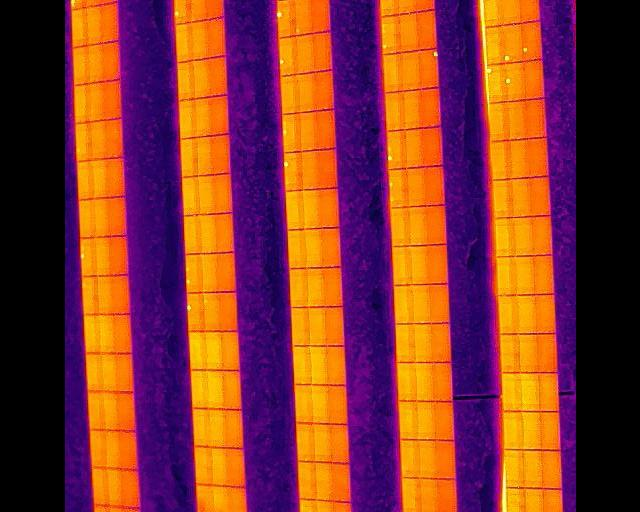Cell: (520, 22, 540, 62), (502, 24, 522, 63), (277, 37, 297, 76), (417, 49, 437, 87), (504, 63, 524, 101), (282, 153, 301, 191), (486, 63, 504, 102), (276, 0, 294, 38), (202, 292, 219, 331), (74, 122, 90, 160), (187, 294, 203, 331), (293, 0, 310, 34), (483, 0, 502, 27), (194, 484, 212, 512), (188, 0, 206, 21), (174, 0, 189, 25)
Cell-Multi: (281, 113, 300, 153), (388, 169, 406, 208), (380, 16, 397, 55), (185, 254, 201, 293), (80, 236, 96, 275), (387, 131, 403, 170), (69, 0, 85, 9), (94, 504, 110, 512)
No-Anomaly: (284, 188, 305, 231), (427, 283, 448, 323), (300, 190, 320, 231), (396, 13, 417, 52), (390, 246, 411, 285), (541, 450, 562, 489), (175, 98, 195, 138), (522, 449, 542, 488), (506, 101, 526, 140), (433, 401, 453, 440), (426, 245, 446, 284), (399, 52, 419, 91), (395, 362, 415, 401), (534, 294, 554, 333), (414, 11, 435, 48), (509, 178, 528, 218), (318, 149, 337, 189), (429, 322, 448, 362), (419, 88, 438, 128), (399, 439, 418, 479), (540, 411, 560, 449), (280, 75, 299, 115), (532, 216, 551, 256), (503, 409, 522, 449), (488, 102, 508, 140), (315, 111, 334, 150), (315, 72, 334, 111), (311, 423, 330, 462), (519, 372, 538, 411), (431, 362, 450, 401), (425, 206, 444, 245), (420, 127, 439, 166), (409, 284, 428, 323), (397, 401, 416, 440), (400, 91, 419, 130), (325, 346, 344, 385), (322, 267, 341, 306), (529, 177, 548, 216), (290, 307, 309, 346), (539, 372, 558, 411), (294, 34, 313, 73), (293, 384, 312, 423), (533, 255, 552, 294), (536, 334, 555, 373), (499, 333, 518, 372), (501, 372, 520, 411), (483, 26, 502, 65), (490, 140, 509, 179), (523, 62, 543, 99), (191, 96, 209, 137), (512, 217, 531, 255), (413, 363, 432, 401), (297, 461, 316, 499), (312, 32, 330, 72), (181, 175, 199, 215), (528, 137, 546, 177), (435, 439, 453, 479), (408, 245, 426, 285), (412, 323, 430, 363), (295, 421, 313, 461), (293, 345, 311, 385), (219, 330, 237, 370), (212, 173, 230, 213), (210, 136, 229, 173), (526, 99, 544, 138), (518, 333, 536, 372), (75, 160, 93, 199), (514, 255, 532, 294), (516, 294, 534, 333), (407, 207, 425, 246), (423, 166, 441, 205), (416, 401, 434, 440), (389, 207, 407, 246), (392, 285, 410, 324), (381, 53, 399, 92), (330, 424, 348, 463), (331, 463, 349, 502), (320, 228, 338, 267), (324, 307, 342, 346), (188, 331, 206, 370), (298, 73, 316, 112), (224, 448, 242, 487), (206, 57, 224, 96), (203, 331, 221, 370), (206, 18, 224, 57), (191, 408, 209, 447), (192, 446, 210, 485), (498, 294, 516, 333), (113, 313, 130, 354), (309, 0, 330, 33), (522, 411, 540, 449), (118, 431, 136, 469), (88, 429, 106, 467), (406, 169, 424, 207), (287, 231, 305, 269), (288, 269, 306, 307), (504, 450, 522, 488), (497, 256, 515, 294), (175, 61, 192, 101), (418, 439, 435, 479), (309, 345, 326, 385), (301, 151, 318, 191), (205, 369, 222, 409), (189, 369, 206, 409), (173, 24, 191, 61), (314, 462, 331, 501), (310, 385, 327, 424), (180, 137, 197, 176), (183, 214, 200, 253), (88, 120, 105, 159), (510, 139, 527, 178), (404, 129, 421, 168), (394, 324, 411, 363), (384, 91, 401, 130), (327, 385, 344, 424), (303, 229, 320, 268), (305, 268, 322, 307), (201, 253, 218, 292), (208, 448, 225, 487), (214, 214, 231, 253), (495, 217, 512, 256), (492, 179, 509, 218), (77, 199, 94, 237), (208, 97, 225, 135), (101, 390, 117, 430), (83, 313, 99, 353), (222, 370, 238, 410), (222, 409, 238, 449), (103, 82, 120, 119), (105, 119, 121, 158), (117, 391, 133, 430), (107, 158, 123, 197), (101, 42, 117, 81), (91, 159, 107, 198), (71, 9, 87, 48), (308, 307, 324, 346), (199, 214, 215, 253), (217, 253, 233, 292), (219, 292, 235, 331), (190, 21, 206, 60), (122, 469, 138, 507), (106, 468, 122, 506), (81, 275, 97, 313), (85, 353, 101, 391), (300, 112, 316, 150), (109, 197, 124, 237), (197, 175, 212, 215), (436, 477, 453, 512), (418, 479, 436, 512), (401, 479, 419, 512), (90, 467, 106, 504), (73, 84, 88, 123), (87, 391, 102, 430), (98, 314, 113, 353), (94, 198, 109, 237), (320, 189, 335, 228), (192, 58, 207, 97), (196, 136, 211, 175), (87, 7, 102, 45), (88, 82, 103, 120), (112, 275, 127, 313), (109, 237, 124, 275), (104, 430, 119, 468), (115, 354, 130, 391), (87, 44, 101, 83), (102, 4, 116, 43), (97, 276, 111, 315), (95, 237, 109, 276), (209, 410, 223, 449), (100, 353, 114, 391), (74, 46, 87, 84), (500, 0, 519, 26), (542, 488, 562, 512), (523, 487, 542, 512), (506, 486, 524, 512), (209, 485, 226, 512), (518, 0, 538, 22), (226, 486, 242, 512), (205, 0, 223, 19), (378, 0, 398, 16), (396, 0, 414, 14), (299, 498, 317, 512), (413, 0, 432, 11), (332, 501, 351, 512), (316, 499, 332, 512)
